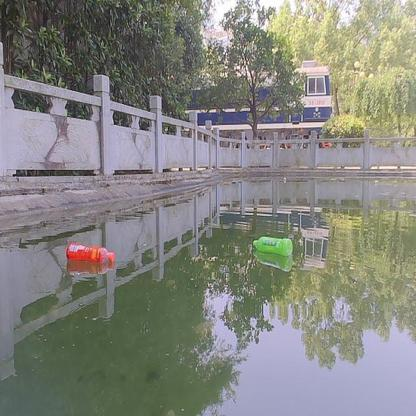plastic bottle: (66, 242, 116, 265), (252, 236, 293, 255)
